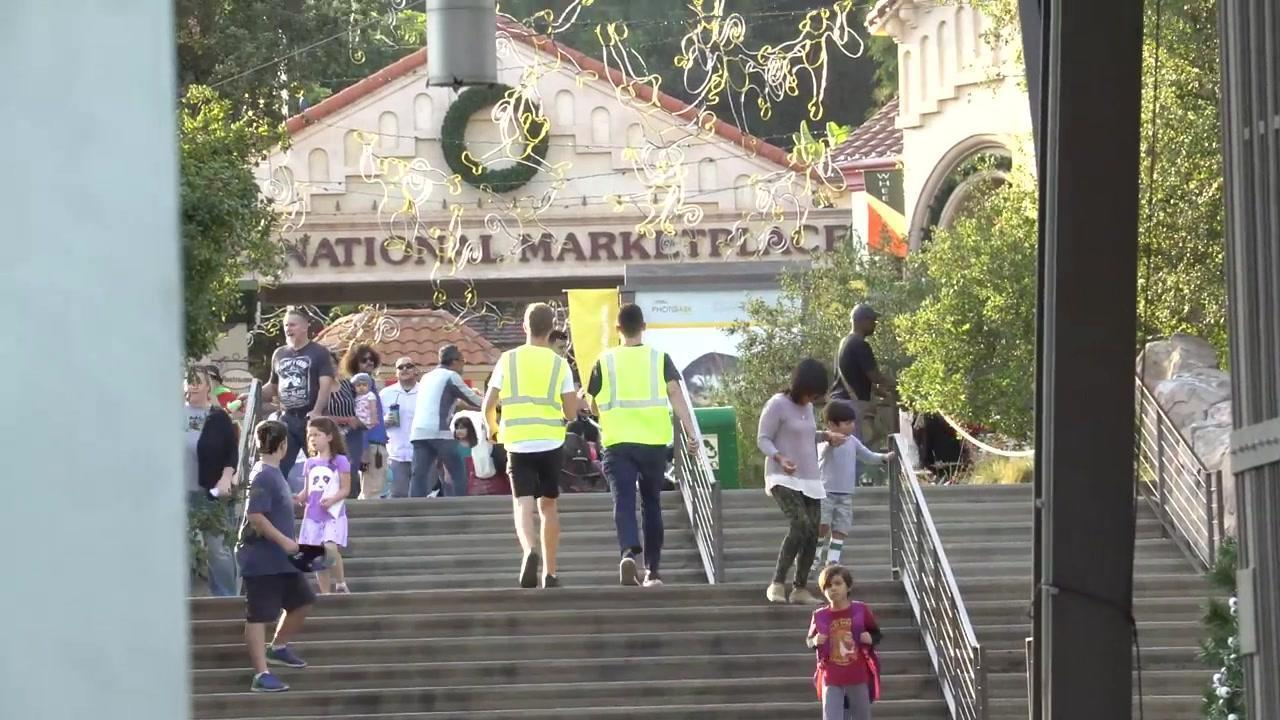Glass: (588, 343, 674, 448), (491, 342, 576, 444)
